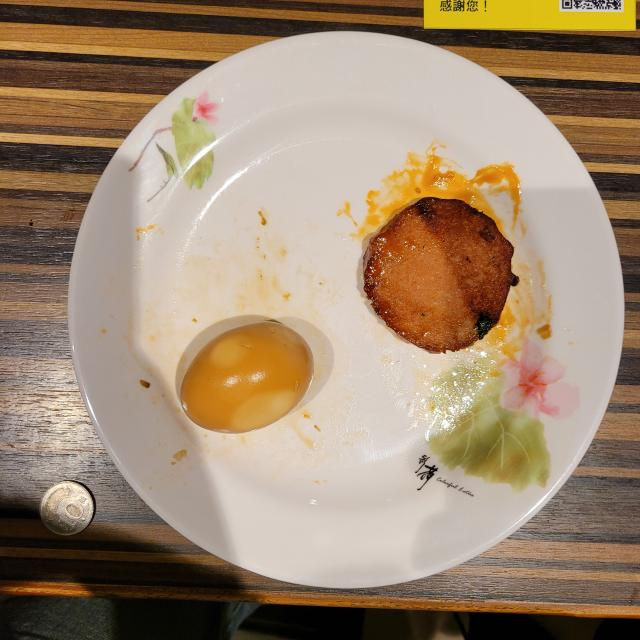Spam: (364, 198, 519, 352)
coin: (40, 481, 94, 535)
soy egg: (180, 321, 314, 434)
